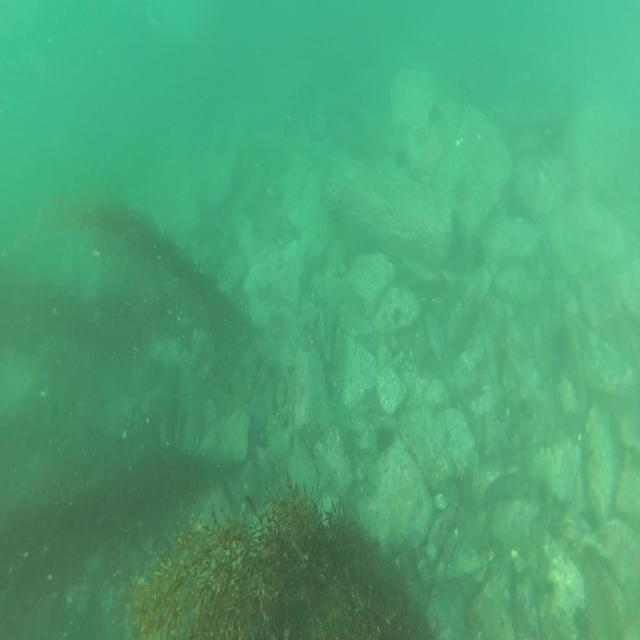echinus: (375, 422, 394, 453), (453, 172, 470, 201), (391, 149, 410, 173), (396, 116, 411, 140), (428, 100, 440, 127)
